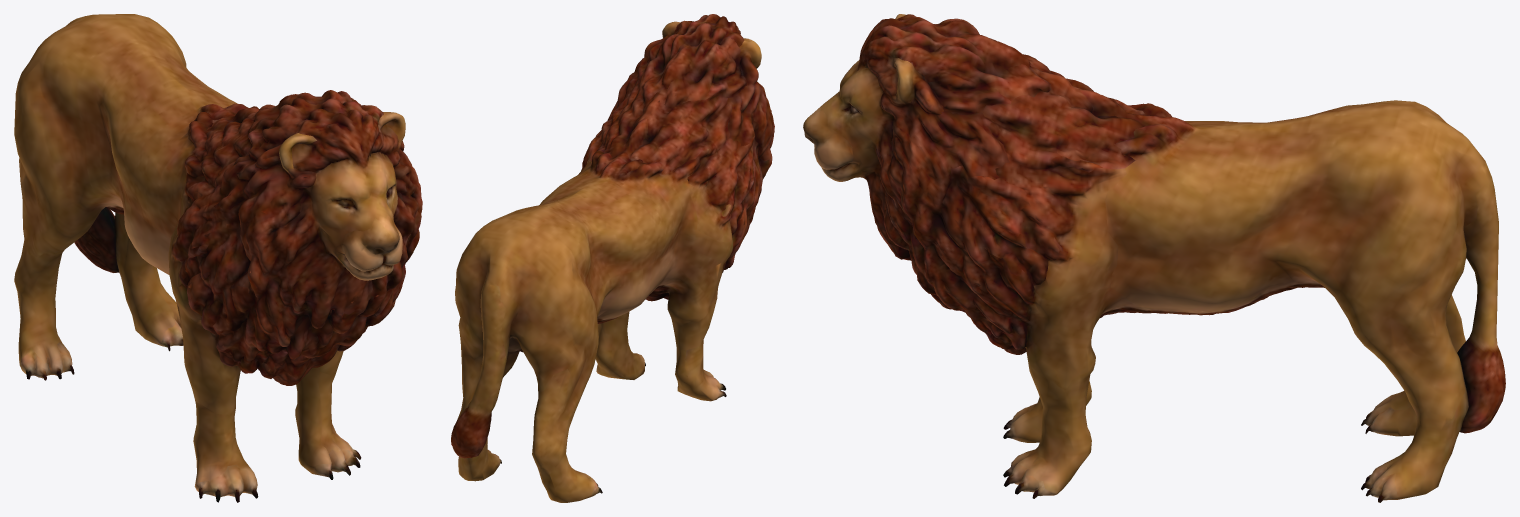
File: MZ4250 - Lion.glb
3 renders of one model, left to right at view 1: azimuth 30°, elevation 25°; view 2: azimuth 150°, elevation 25°; view 3: azimuth 270°, elevation 25°, orthographic. The views are drawn at different scales.
Parts seen in each view (by area): view 1: Lion t.001; view 2: Lion t.001; view 3: Lion t.001.
Boxes of the visible parts, x1=… form: Lion t.001: x1=14, y1=14, x2=422, y2=502; Lion t.001: x1=451, y1=14, x2=774, y2=502; Lion t.001: x1=803, y1=14, x2=1505, y2=502.
Bounding box in the file's own units: 0.3986 × 0.8079 × 1.18.
Materials: 1 (1 with a texture image).
